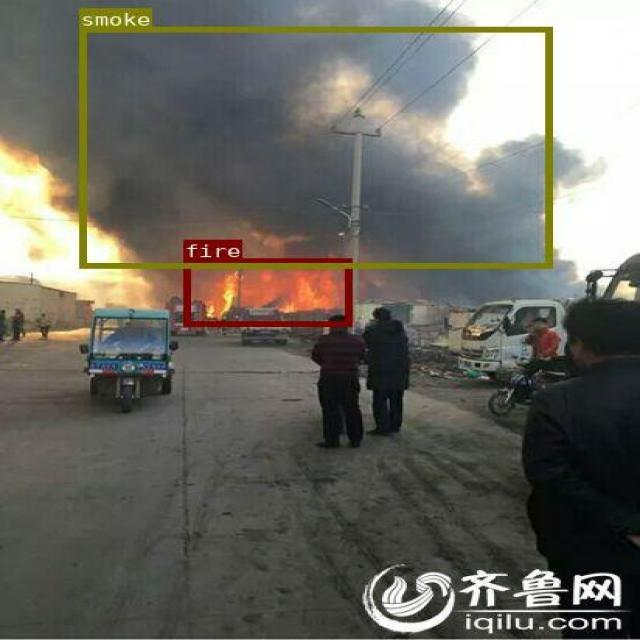fire: (182, 258, 350, 326)
smoke: (78, 27, 551, 267)
